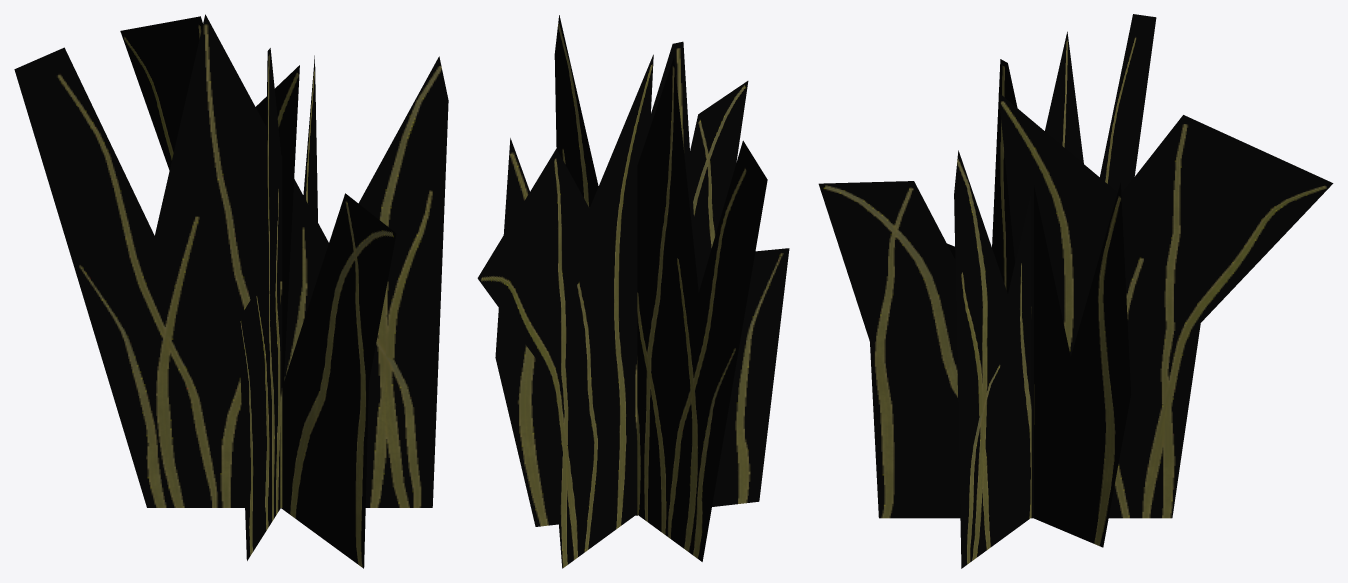
File: SM_Grass_04.fbx
The picture shows the model from 3 angles, left to right: view 1: azimuth 30°, elevation 25°; view 2: azimuth 150°, elevation 25°; view 3: azimuth 270°, elevation 25°; orthographic projection. The views are drawn at different scales.
Visible parts, largest first — view 1: SM_Grass_04_LOD0; view 2: SM_Grass_04_LOD0; view 3: SM_Grass_04_LOD0.
Boxes of the visible parts, x1,y1,x2,y2 form: SM_Grass_04_LOD0: (14,14,448,568); SM_Grass_04_LOD0: (477,15,789,568); SM_Grass_04_LOD0: (818,14,1333,568).
Size of the model in its own units: 28.83 by 42.36 by 41.88.
